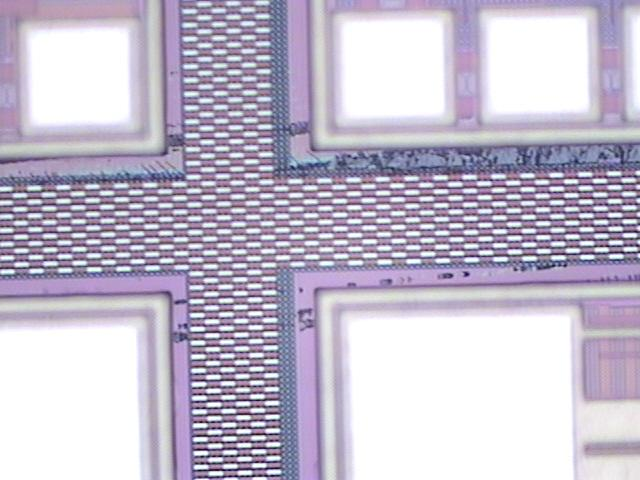SCRATCH: (1, 137, 640, 351)
